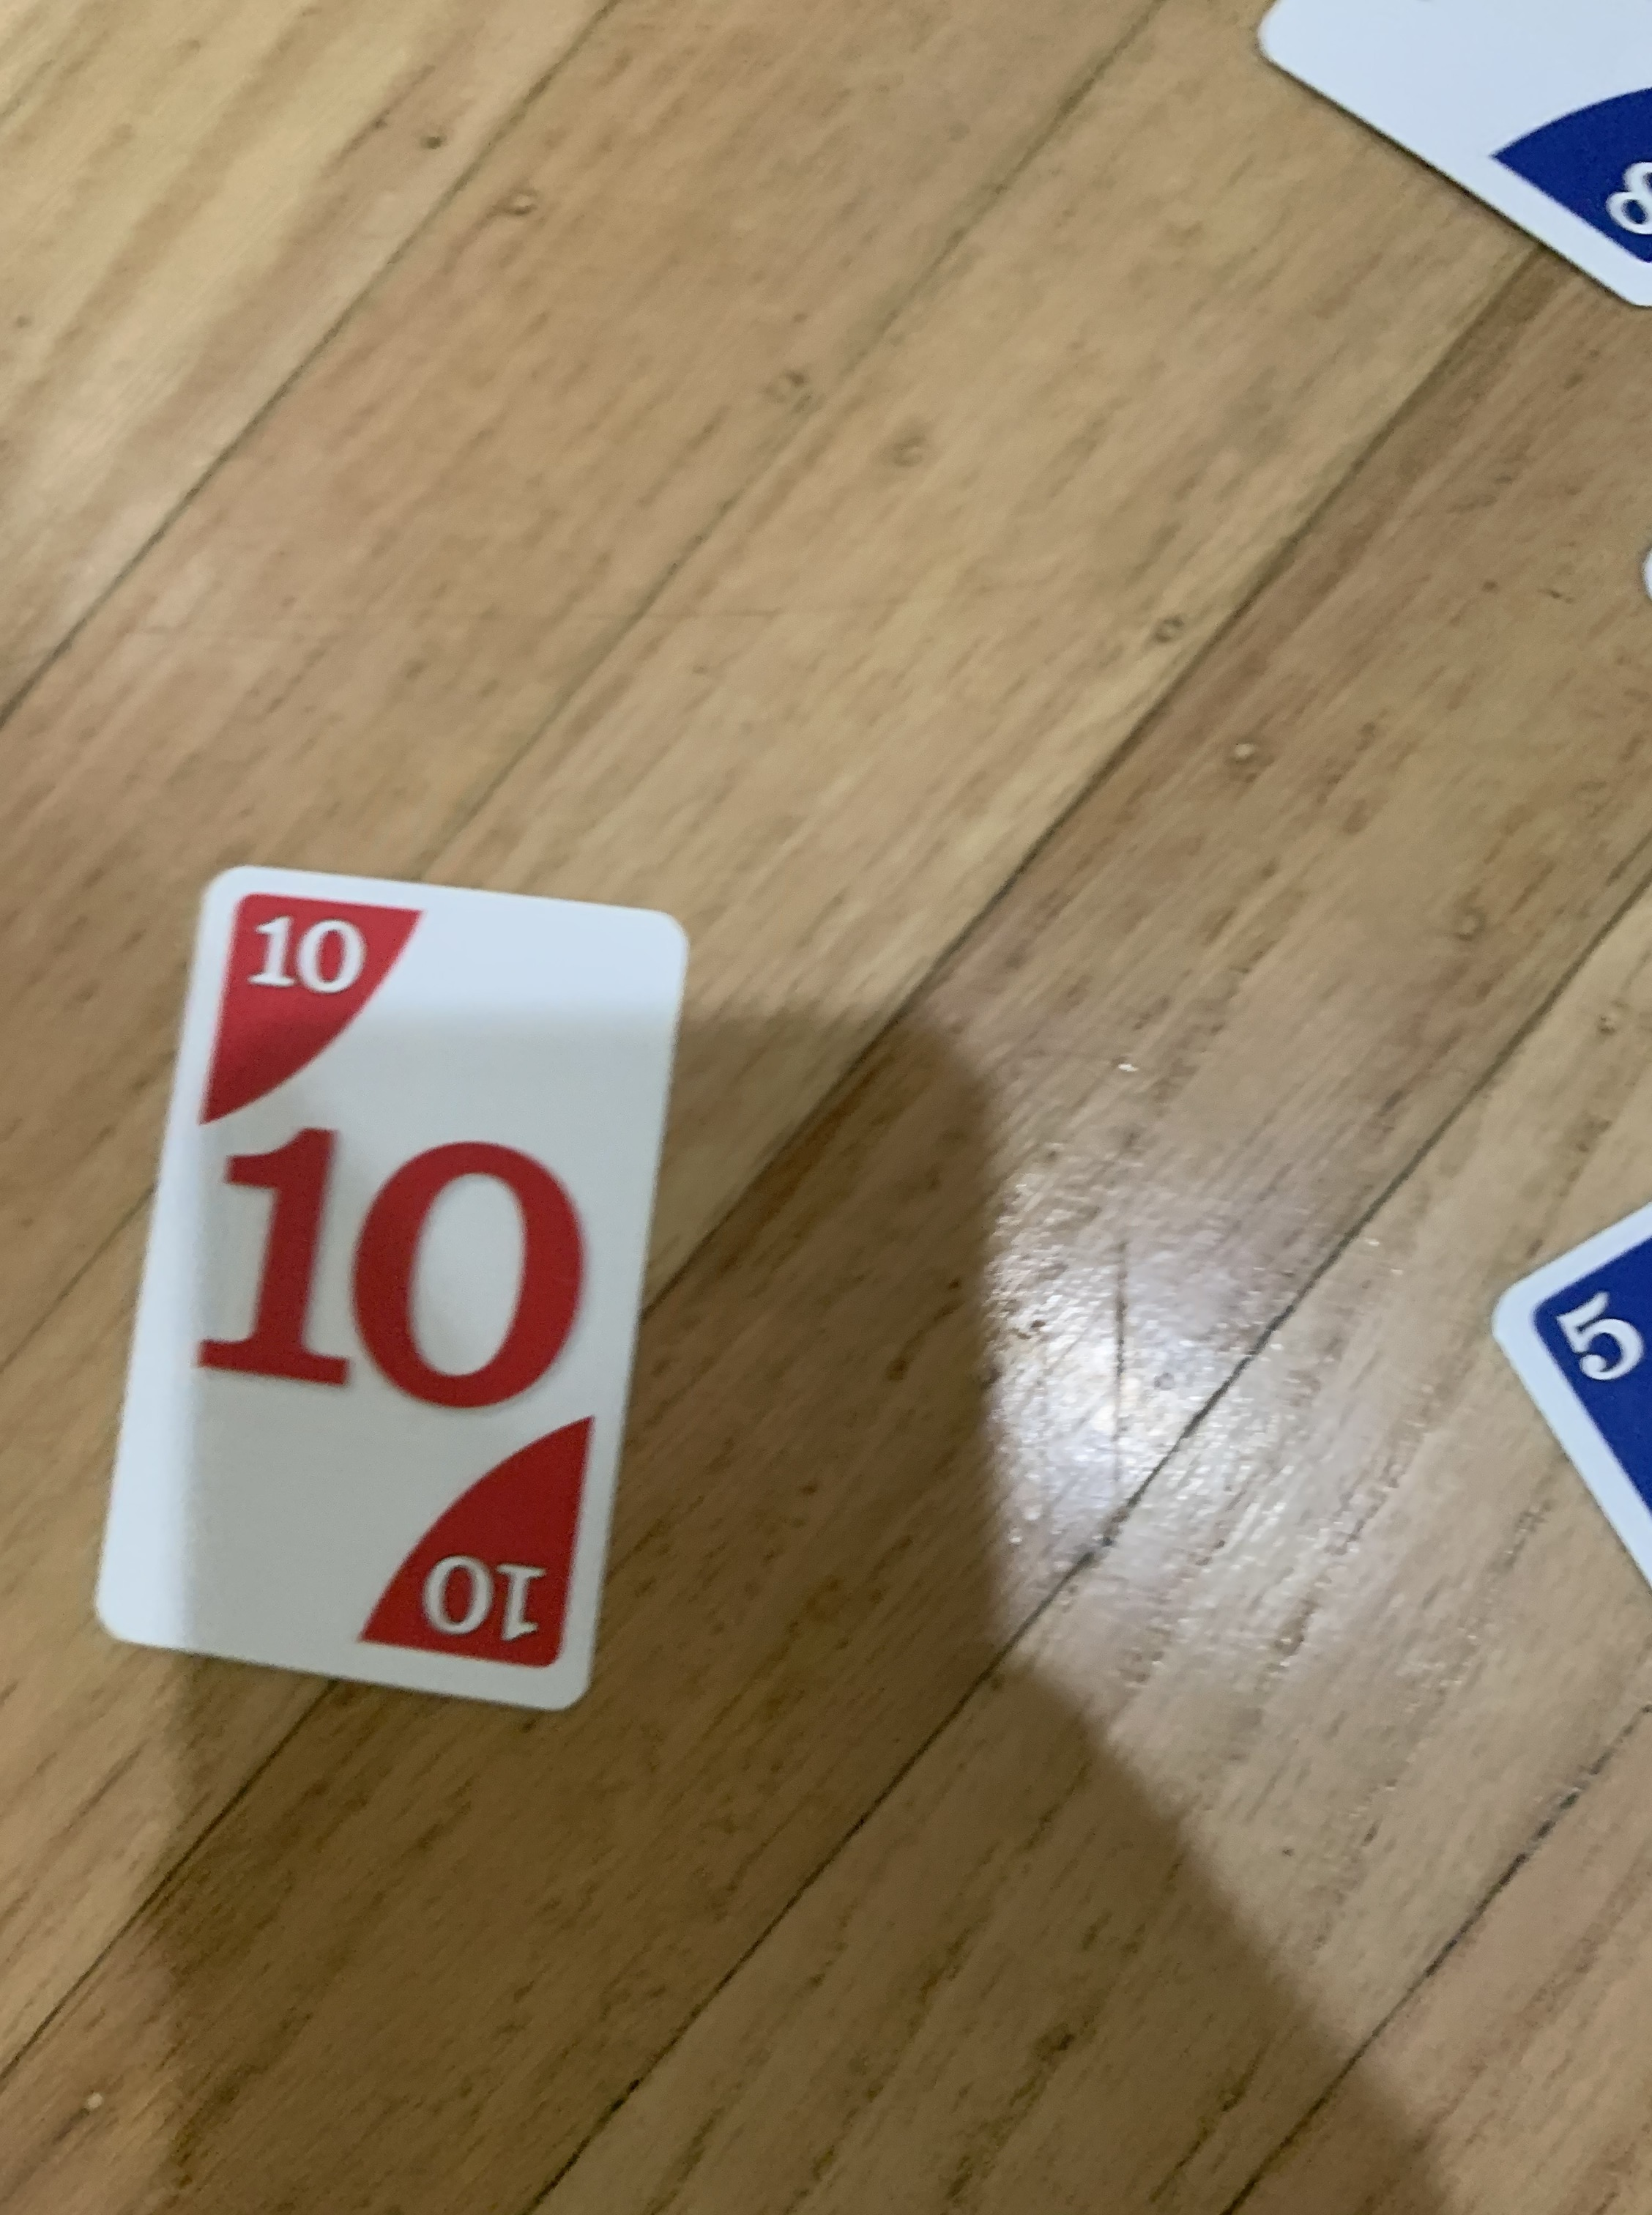ten: (83, 859, 696, 1715)
